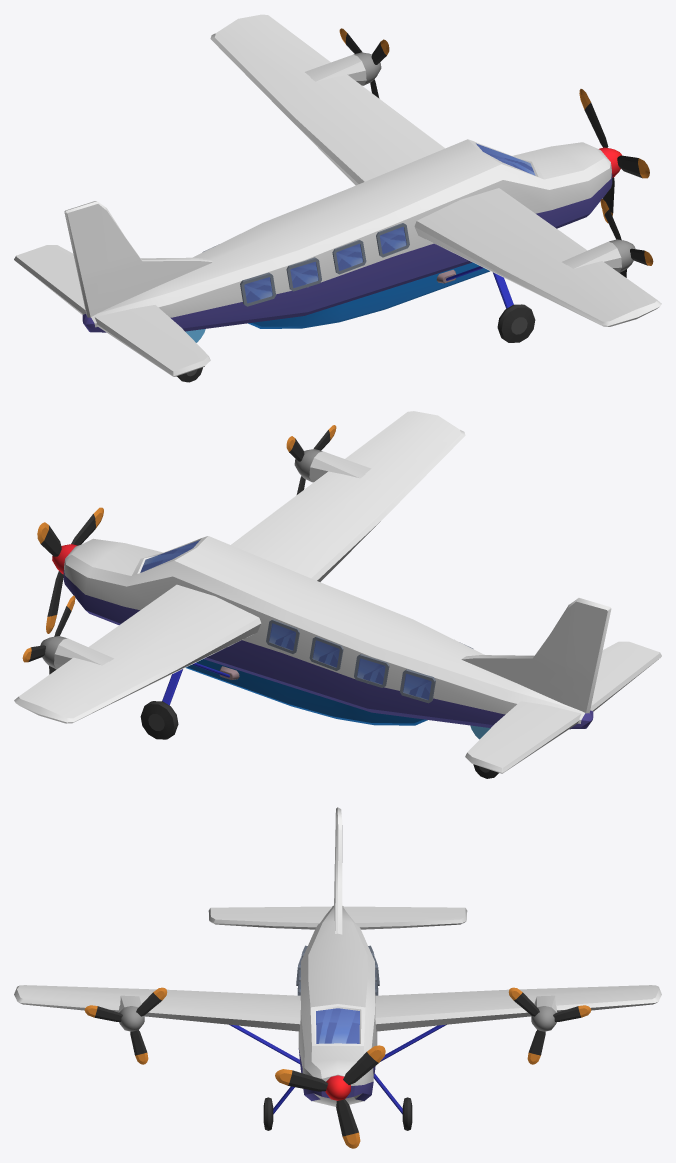
3 renders of one model, top to bottom at view 1: azimuth 30°, elevation 25°; view 2: azimuth 150°, elevation 25°; view 3: azimuth 270°, elevation 25°, orthographic. The views are drawn at different scales.
Parts seen in each view (by area): view 1: Plane_1_A, Propeler_F, Propeler_L, Propeler_R; view 2: Plane_1_A, Propeler_F, Propeler_R, Propeler_L; view 3: Plane_1_A, Propeler_F, Propeler_L, Propeler_R.
Part boxes in pixels (x1,y1,x2,y2): Plane_1_A: (14, 14, 661, 382); Propeler_F: (579, 89, 649, 222); Propeler_L: (339, 28, 389, 98); Propeler_R: (600, 199, 653, 277); Plane_1_A: (14, 411, 661, 778); Propeler_F: (37, 507, 103, 633); Propeler_R: (286, 425, 336, 494); Propeler_L: (22, 595, 75, 674); Plane_1_A: (14, 807, 661, 1130); Propeler_F: (275, 1045, 385, 1148); Propeler_L: (508, 987, 591, 1064); Propeler_R: (84, 987, 167, 1064).
Size of the model in its own units: 18.45 by 6.38 by 22.98.
